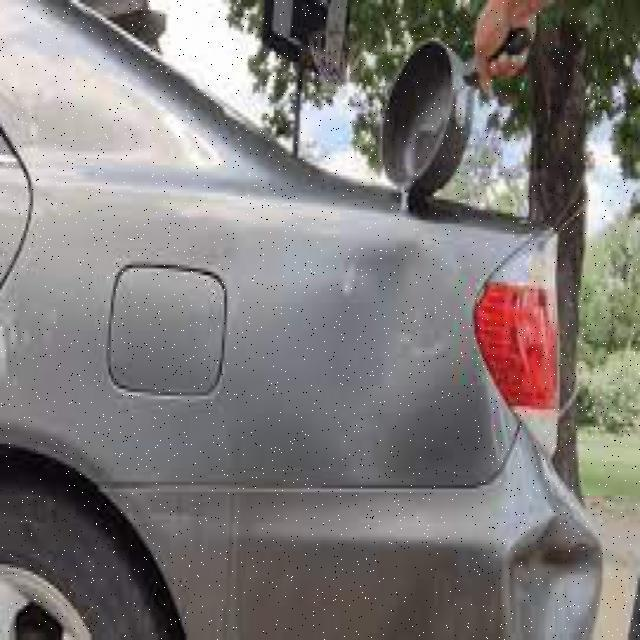quaterpanel-dent: (16, 193, 482, 536)
rear-bumper-dent: (344, 423, 628, 637)
